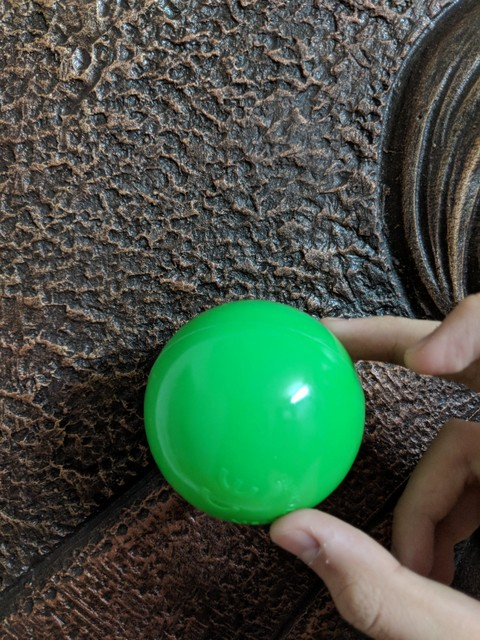ball: (140, 297, 366, 526)
